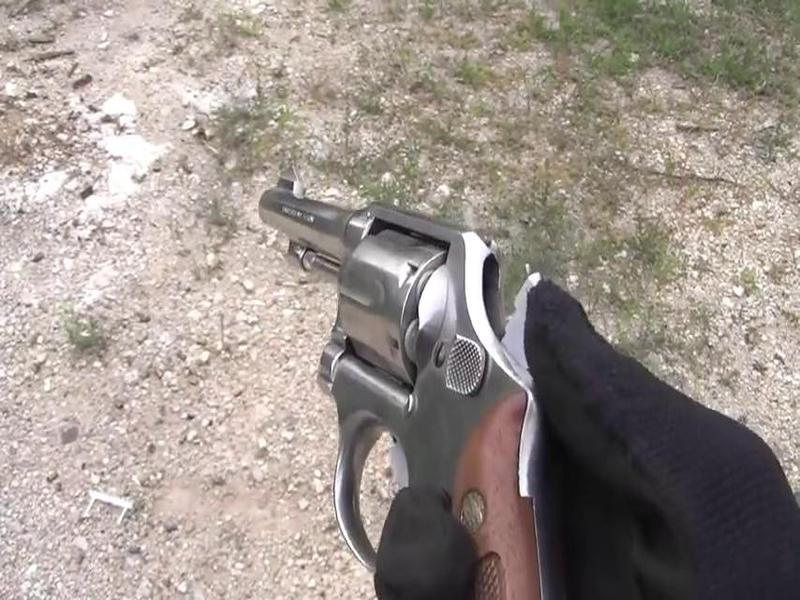Revolver: (220, 147, 557, 600)
